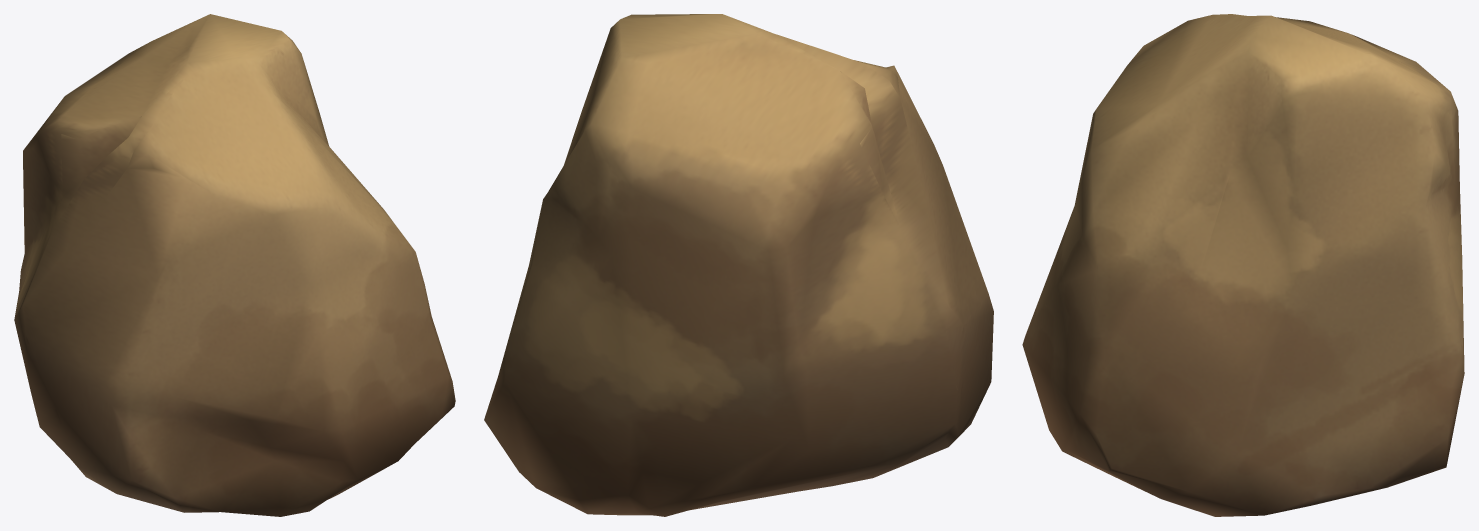
File: Small_Rock.glb
3 views of the same model, side by side, from view 1: azimuth 30°, elevation 25°; view 2: azimuth 150°, elevation 25°; view 3: azimuth 270°, elevation 25° (orthographic). The views are drawn at different scales.
Parts seen in each view (by area): view 1: Small rock Lp; view 2: Small rock Lp; view 3: Small rock Lp.
Part boxes in pixels (x1,y1,x2,y2): Small rock Lp: (14, 14, 455, 516); Small rock Lp: (484, 14, 993, 516); Small rock Lp: (1022, 14, 1464, 516).
Bounding box in the file's own units: 3.07 × 3.24 × 2.91.
1 material, 1 textured.
